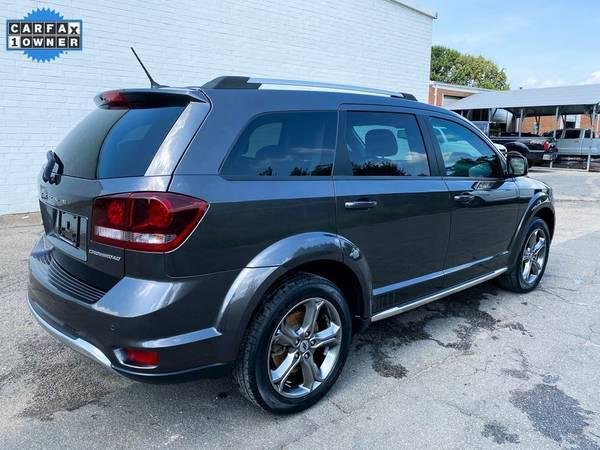Front_Fender: (516, 176, 555, 265)
Front_Right_Door: (442, 178, 518, 297)
Front_Right_Window: (426, 114, 518, 179)
Rear_Bumper: (27, 238, 286, 380)
Rear_Fender: (163, 108, 343, 276)
Rear_Right_Door: (332, 176, 451, 317)
Rear_Right_Window: (334, 108, 442, 175)
Rear_Windshield: (45, 97, 195, 176)
Right_Taillight: (93, 189, 211, 255)
Roof: (98, 85, 511, 171)
Tailgate: (38, 167, 171, 288)
Wheel: (243, 272, 360, 412), (518, 220, 551, 290)
